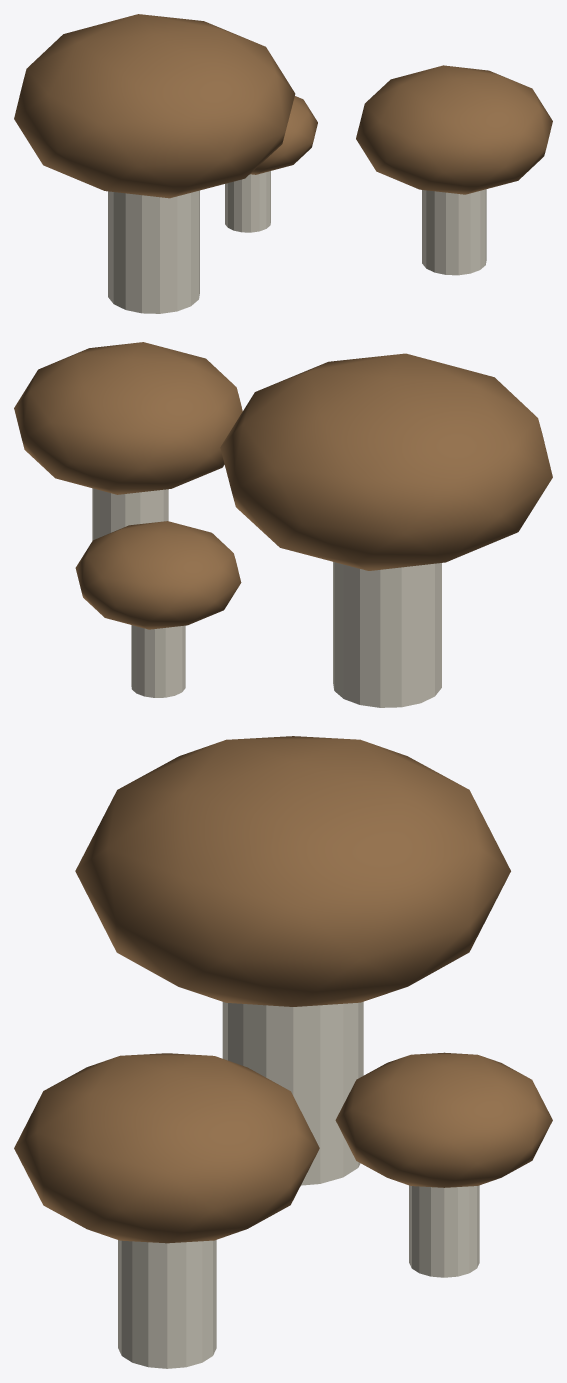
File: mushroom_patch_01.glb
3 renders of one model, top to bottom at view 1: azimuth 30°, elevation 25°; view 2: azimuth 150°, elevation 25°; view 3: azimuth 270°, elevation 25°, orthographic. The views are drawn at different scales.
Visible parts, largest first — view 1: Cylinder; view 2: Cylinder; view 3: Cylinder.
Part boxes in pixels (x1,y1,x2,y2): Cylinder: (14, 14, 552, 313); Cylinder: (14, 342, 552, 707); Cylinder: (14, 736, 552, 1368).
Size of the model in its own units: 0.3198 by 0.1726 by 0.214.
